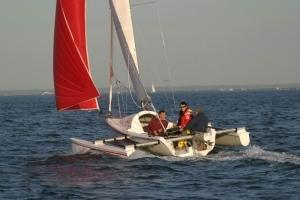Ship: (55, 1, 251, 162)
